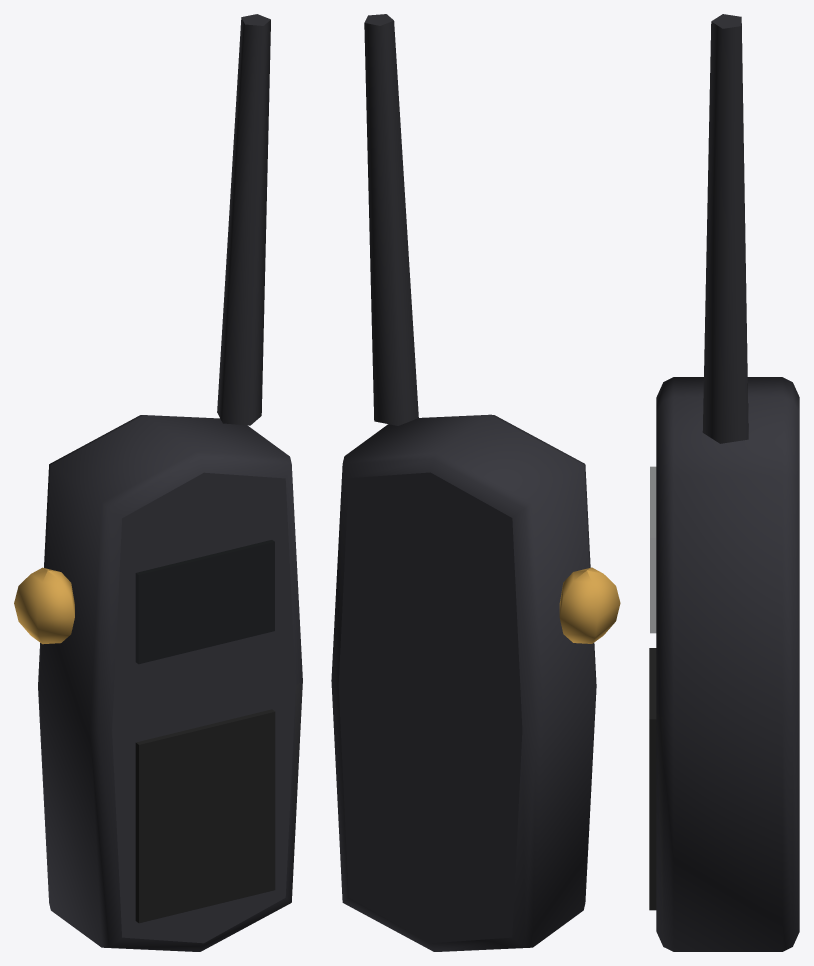
Rendered from police_radio_a.glb.
3 views of the same model, side by side, from view 1: azimuth 30°, elevation 25°; view 2: azimuth 150°, elevation 25°; view 3: azimuth 270°, elevation 25° (orthographic). The views are drawn at different scales.
Parts seen in each view (by area): view 1: body; view 2: body; view 3: body.
Boxes of the visible parts, x1,y1,x2,y2 form: body: (14,14,302,951); body: (331,14,620,951); body: (649,14,799,951).
Size of the model in its own units: 0.0735 by 0.2502 by 0.0357.
